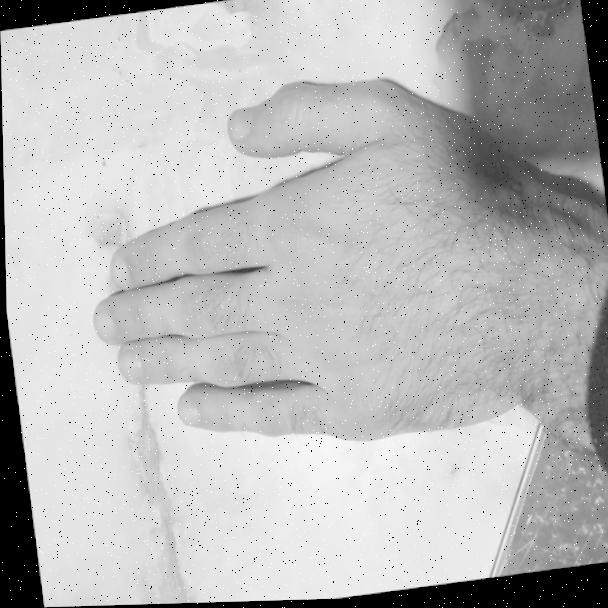five: (42, 44, 552, 482)
